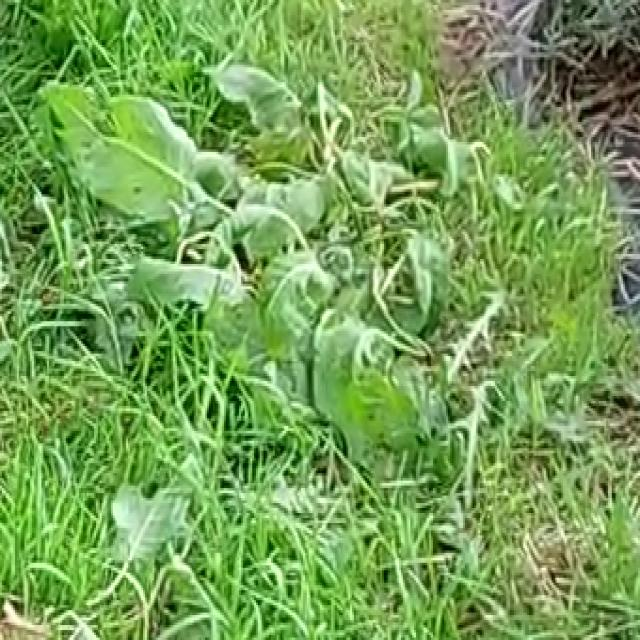organic waste: (22, 10, 422, 366), (194, 97, 499, 503)
